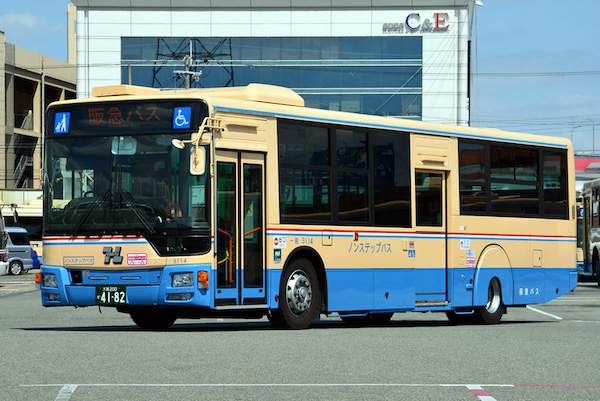destination: (69, 101, 171, 134)
